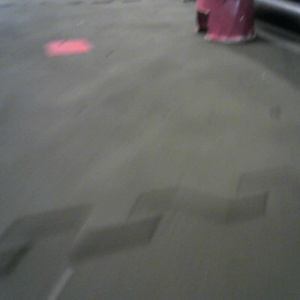Right: (196, 1, 253, 43)
